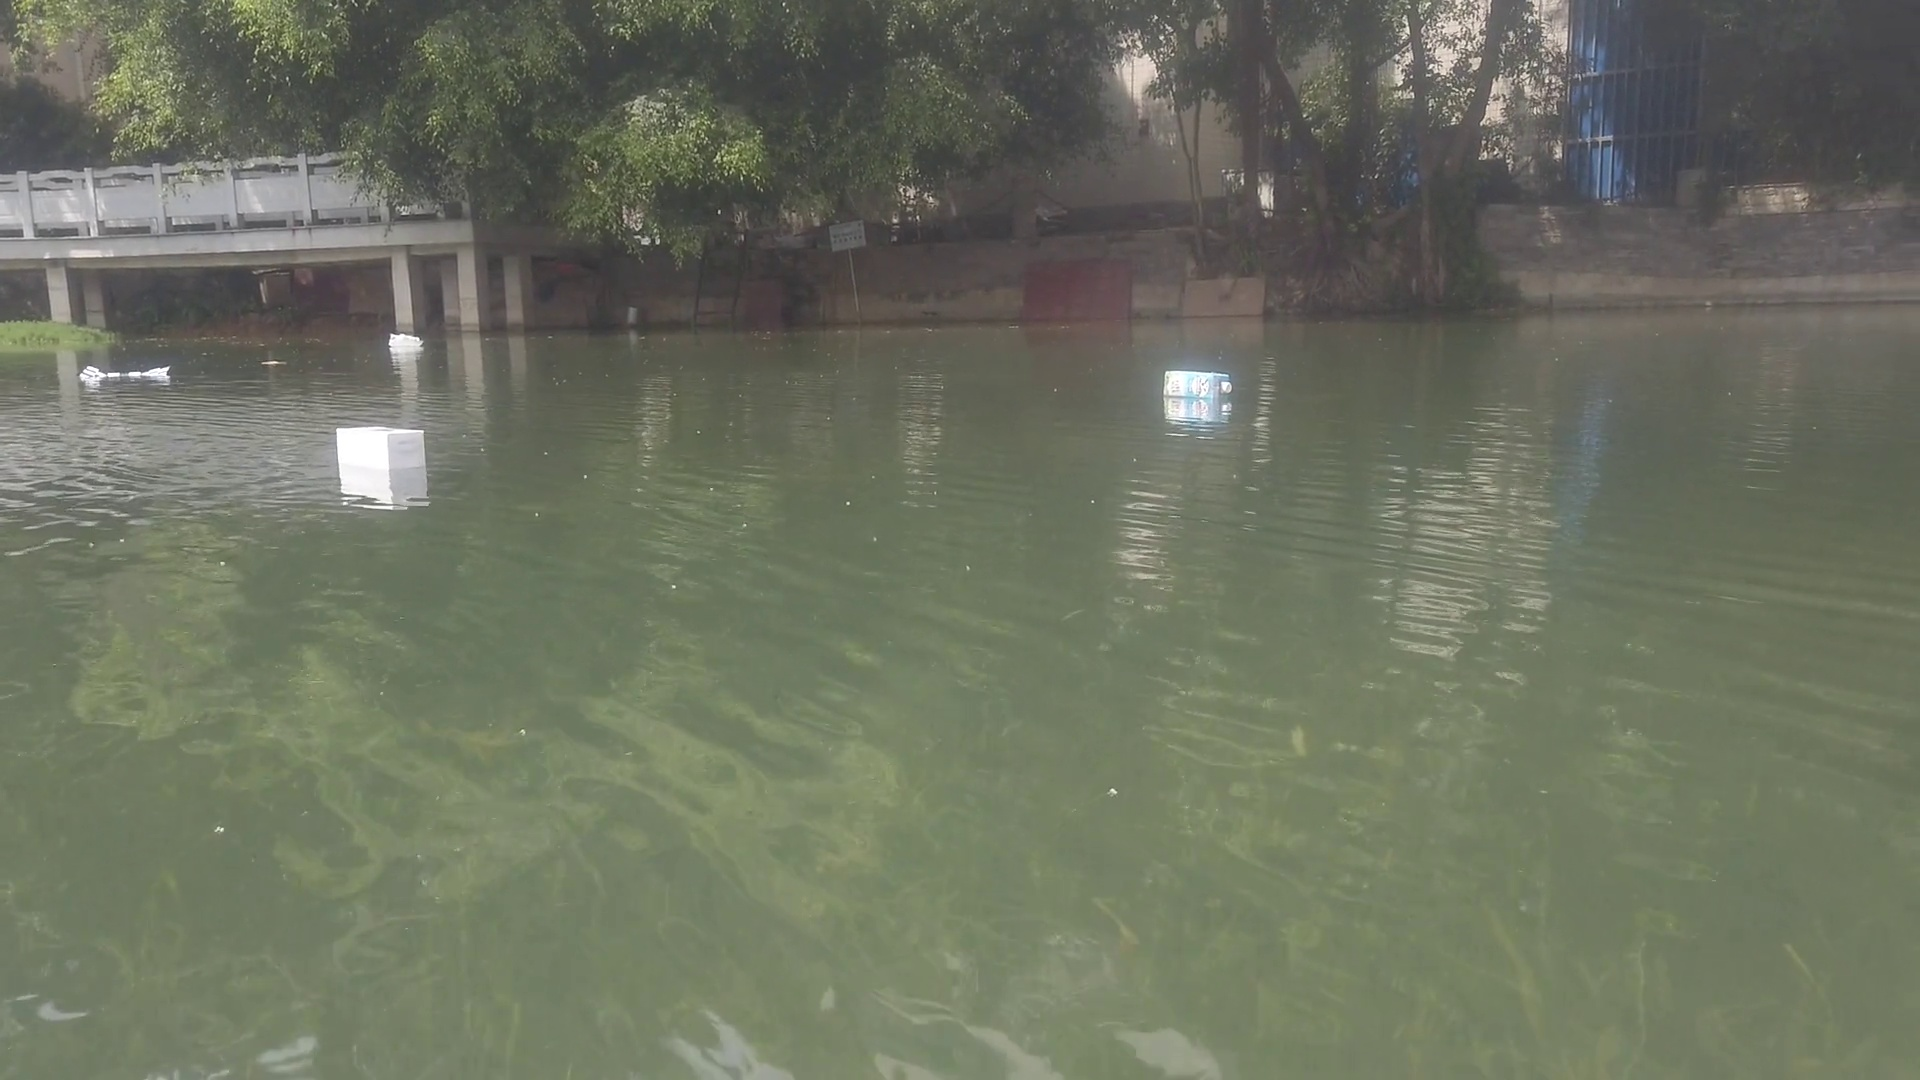carton: (336, 423, 431, 471), (1160, 369, 1233, 404)
paper: (79, 364, 169, 385), (260, 357, 286, 367)
plastic: (386, 328, 423, 345)
